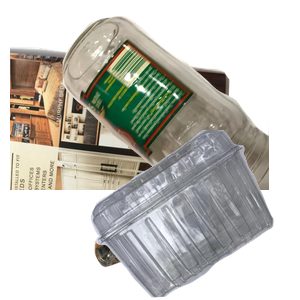glass: (60, 14, 300, 194)
paper: (10, 44, 232, 224)
plastic: (88, 130, 300, 300)
trash: (92, 174, 272, 300)
